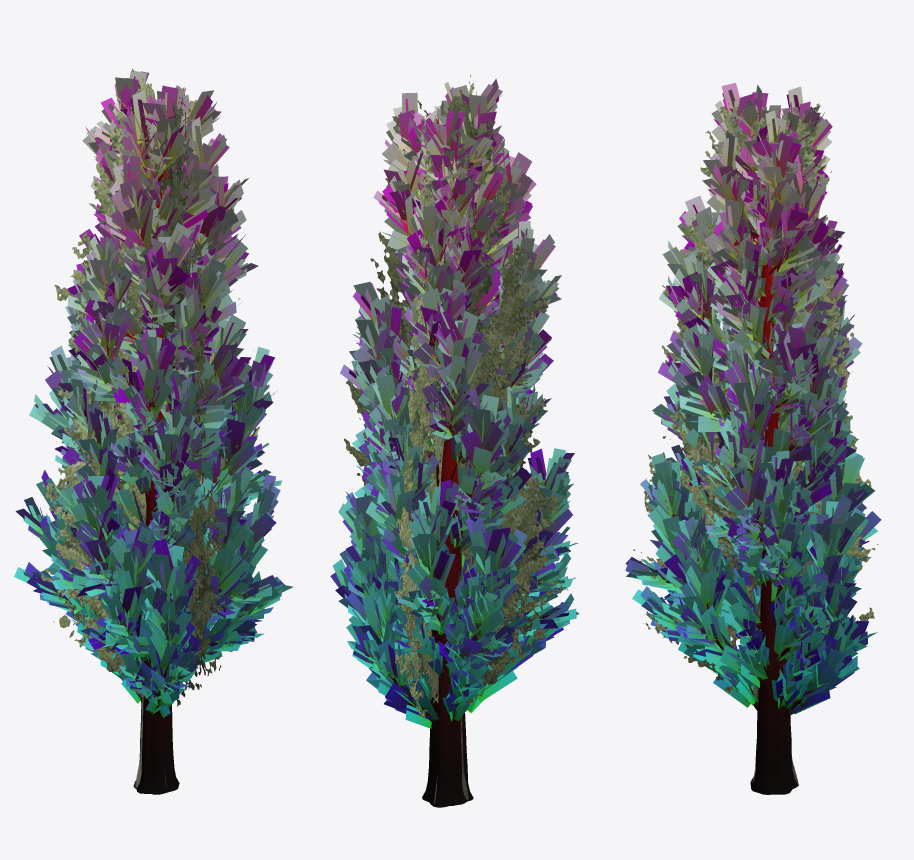
The model's file is PoplarTree001.fbx.
The picture shows the model from 3 angles, left to right: view 1: azimuth 30°, elevation 25°; view 2: azimuth 150°, elevation 25°; view 3: azimuth 270°, elevation 25°; orthographic projection. The views are drawn at different scales.
Parts seen in each view (by area): view 1: PoplarTree001_LOD0, Billboard; view 2: PoplarTree001_LOD0, Billboard; view 3: PoplarTree001_LOD0, Billboard.
Part boxes in pixels (x1,y1,x2,y2): PoplarTree001_LOD0: (14,70,293,794); Billboard: (35,69,259,787); PoplarTree001_LOD0: (330,78,578,807); Billboard: (344,75,567,804); PoplarTree001_LOD0: (625,82,881,794); Billboard: (633,97,878,783).
Size of what is drawn, in the model's own units: 873 by 2317 by 853.
